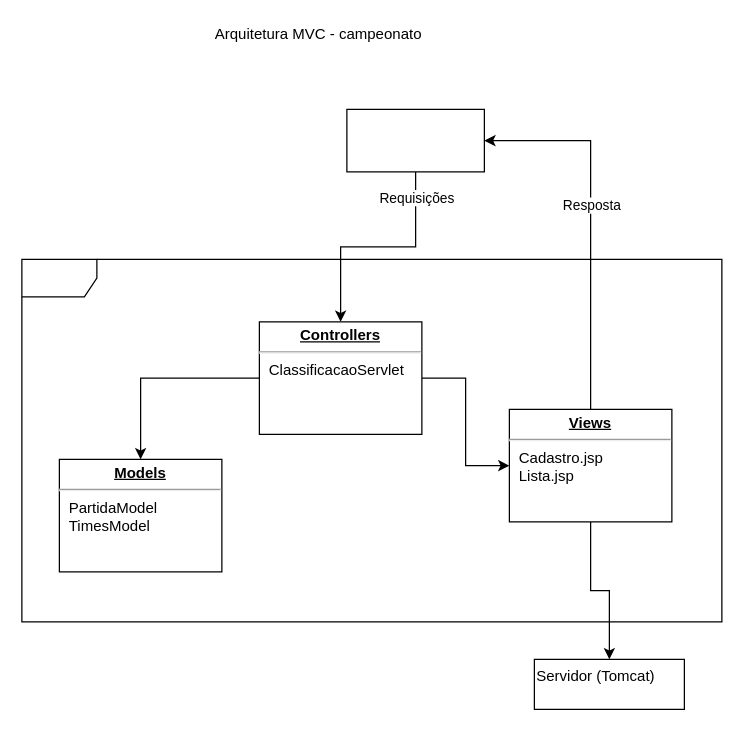
Image size: 744x731. Some labels were removed from this diagram. The shapes that lost their labels are listed below. From the top down, each one's box as (x1, y1, x2, y2) in pixels, then its label:
(346, 108, 484, 172): Usuário
(21, 258, 722, 622): MVC
